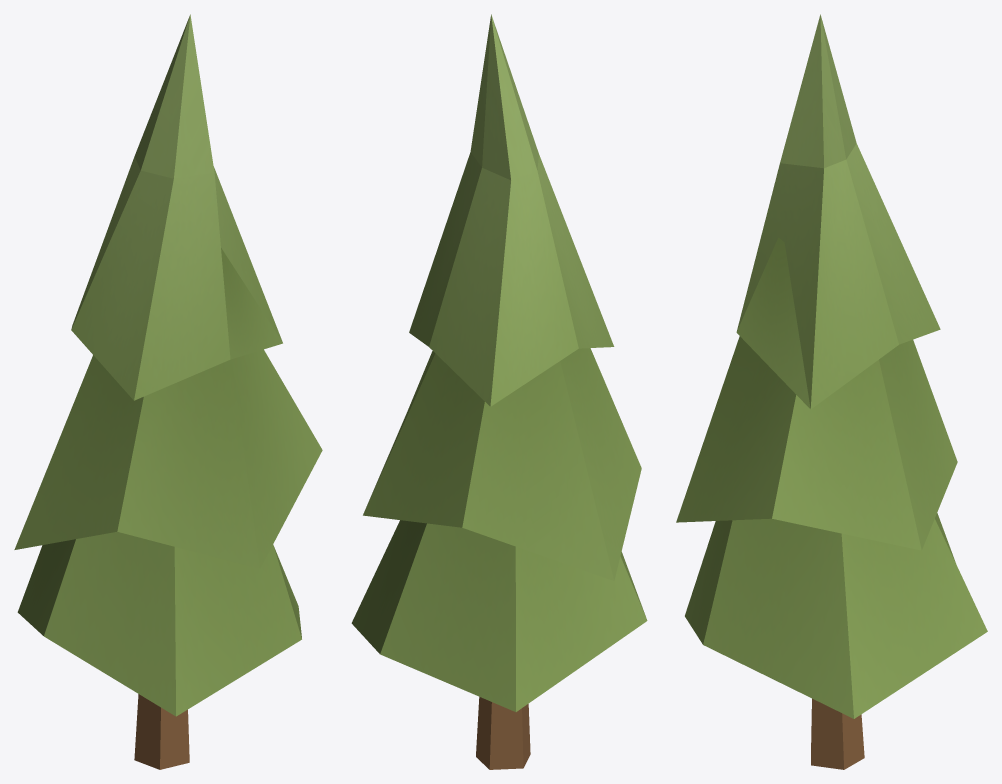
The model's file is Pine_Tree_s_03_LOD.fbx.
3 renders of one model, left to right at view 1: azimuth 30°, elevation 25°; view 2: azimuth 150°, elevation 25°; view 3: azimuth 270°, elevation 25°, orthographic. The views are drawn at different scales.
Visible parts, largest first — view 1: Pine_Tree_s_03_LOD0; view 2: Pine_Tree_s_03_LOD0; view 3: Pine_Tree_s_03_LOD0.
Boxes of the visible parts, x1,y1,x2,y2 form: Pine_Tree_s_03_LOD0: [14, 14, 322, 769]; Pine_Tree_s_03_LOD0: [351, 14, 647, 769]; Pine_Tree_s_03_LOD0: [676, 14, 987, 769].
Size of what is drawn, in the model's own units: 121 by 310 by 116.
